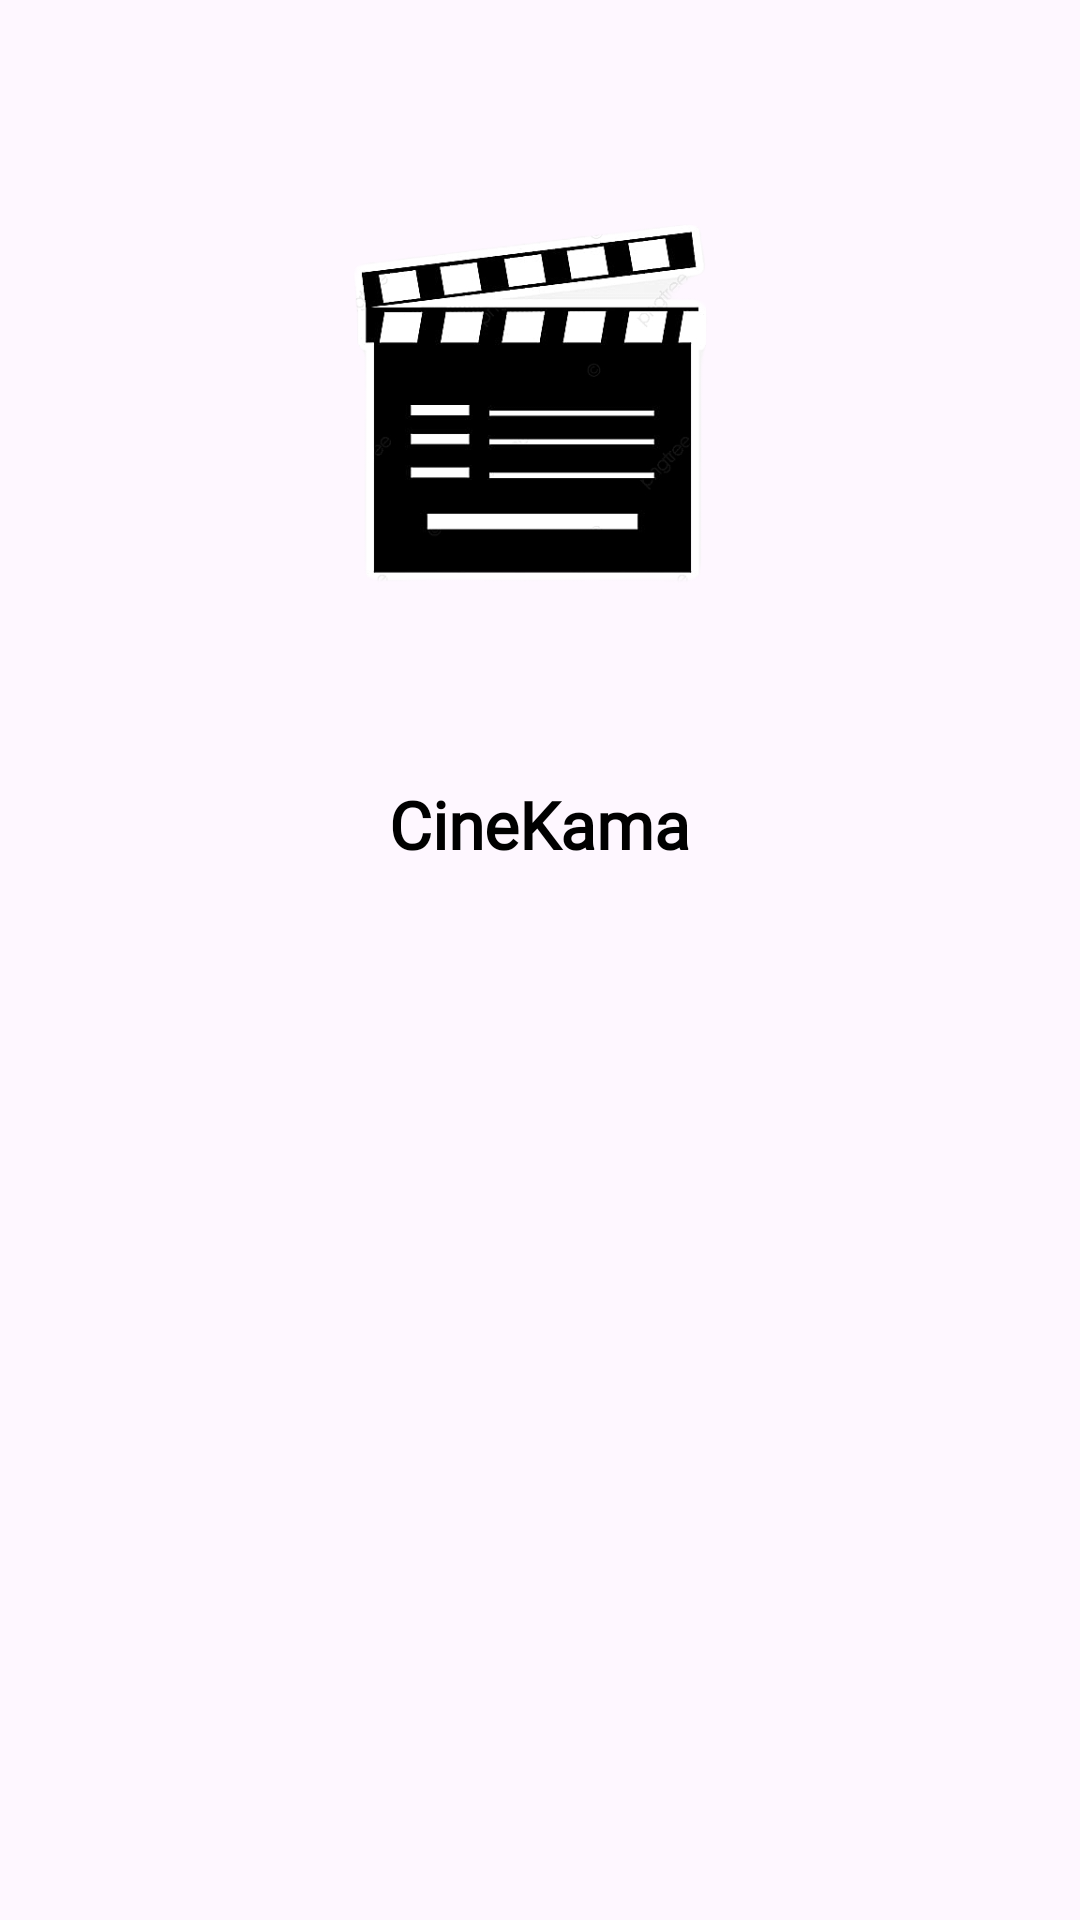

Where to tap for icons on this 1080px x 1920px app screen, as (x,y):
diretor: (530,402)
